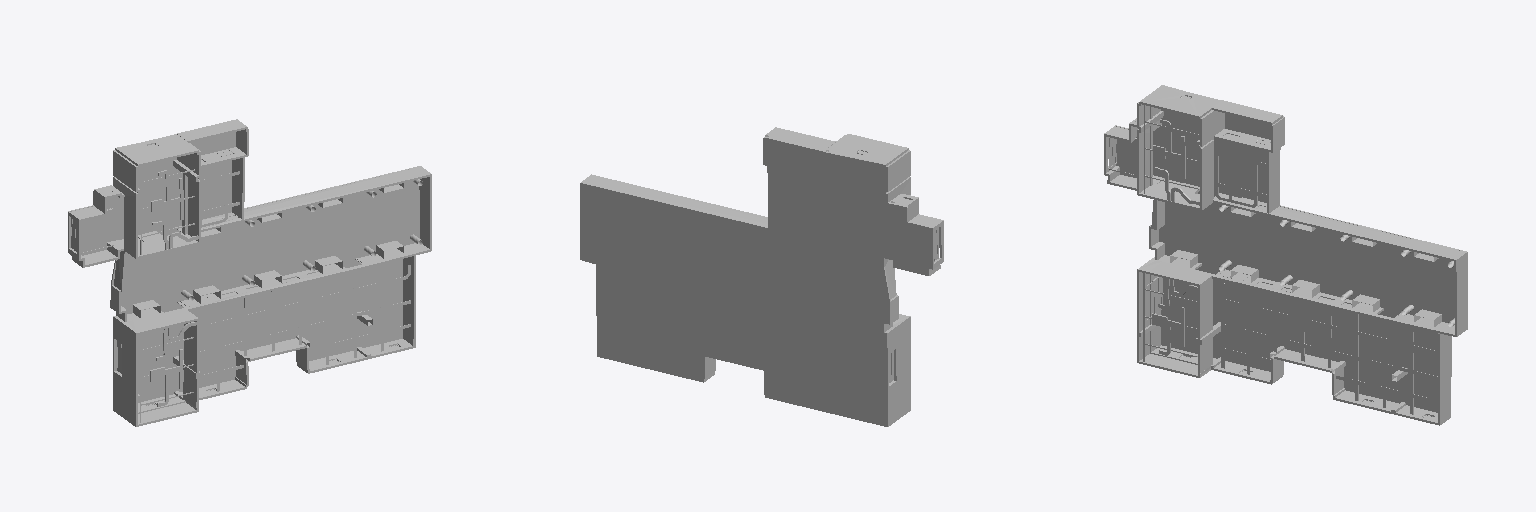
Rendered from iilab2x.obj.
The picture shows the model from 3 angles: view 1: azimuth 30°, elevation 25°; view 2: azimuth 150°, elevation 25°; view 3: azimuth 330°, elevation 25°; orthographic projection.
Visible parts, largest first — view 1: Floor, Wall1, Wall3.001, Wall4.001, CealingFrame, Wall2, Shafts, Ventilation_001, Ventilation, RoundedPosts, CealingFrame_001; view 2: Floor, Wall1, Wall3.001, Wall2; view 3: Floor, Wall1, Wall3.001, Wall4.001, CealingFrame, Shafts, Wall2, CealingFrame_001, Ventilation, Ventilation_001, RoundedPosts.
Boxes of the visible parts, <box> form: Floor: <box>68,132,420,410</box>; Wall1: <box>114,119,431,310</box>; Wall3.001: <box>114,308,198,426</box>; Wall4.001: <box>181,256,415,399</box>; CealingFrame: <box>189,264,410,391</box>; Wall2: <box>69,185,127,321</box>; Shafts: <box>133,183,403,317</box>; Ventilation_001: <box>150,322,196,406</box>; Ventilation: <box>151,170,198,249</box>; RoundedPosts: <box>181,179,422,300</box>; CealingFrame_001: <box>200,162,239,227</box>; Floor: <box>580,137,933,426</box>; Wall1: <box>582,127,910,226</box>; Wall3.001: <box>886,314,910,425</box>; Wall2: <box>885,194,943,331</box>; Floor: <box>1115,85,1467,412</box>; Wall1: <box>1137,85,1466,336</box>; Wall3.001: <box>1137,256,1220,377</box>; Wall4.001: <box>1213,333,1450,425</box>; CealingFrame: <box>1213,279,1437,414</box>; Shafts: <box>1170,193,1441,326</box>; Wall2: <box>1104,118,1164,259</box>; CealingFrame_001: <box>1215,139,1266,207</box>; Ventilation: <box>1153,119,1199,205</box>; Ventilation_001: <box>1152,279,1197,355</box>; RoundedPosts: <box>1219,205,1454,326</box>.
Bounding box in the file's own units: 69.77 × 49.64 × 7.98.